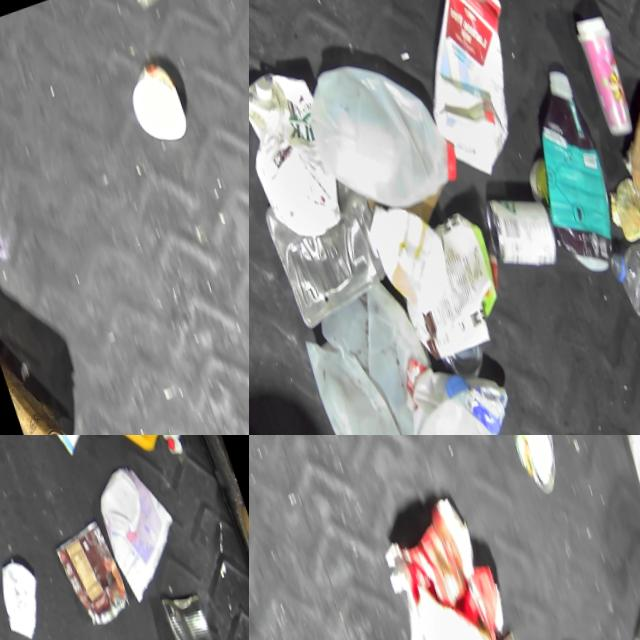can: (46, 522, 131, 640), (471, 188, 558, 290), (497, 435, 566, 507), (156, 593, 221, 640), (432, 347, 485, 392)
milk_jug: (289, 39, 462, 236), (283, 277, 452, 435), (249, 62, 349, 253), (383, 349, 516, 435), (604, 435, 640, 573), (5, 435, 99, 473)
non_white_jug: (388, 0, 547, 197), (505, 71, 628, 293), (64, 435, 198, 487)
plastic_bottle: (597, 239, 640, 381), (581, 580, 640, 640)
